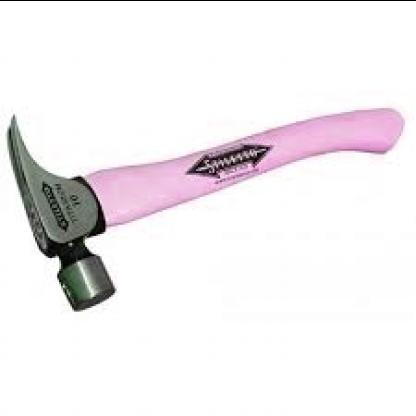Hammer: (6, 107, 404, 311)
